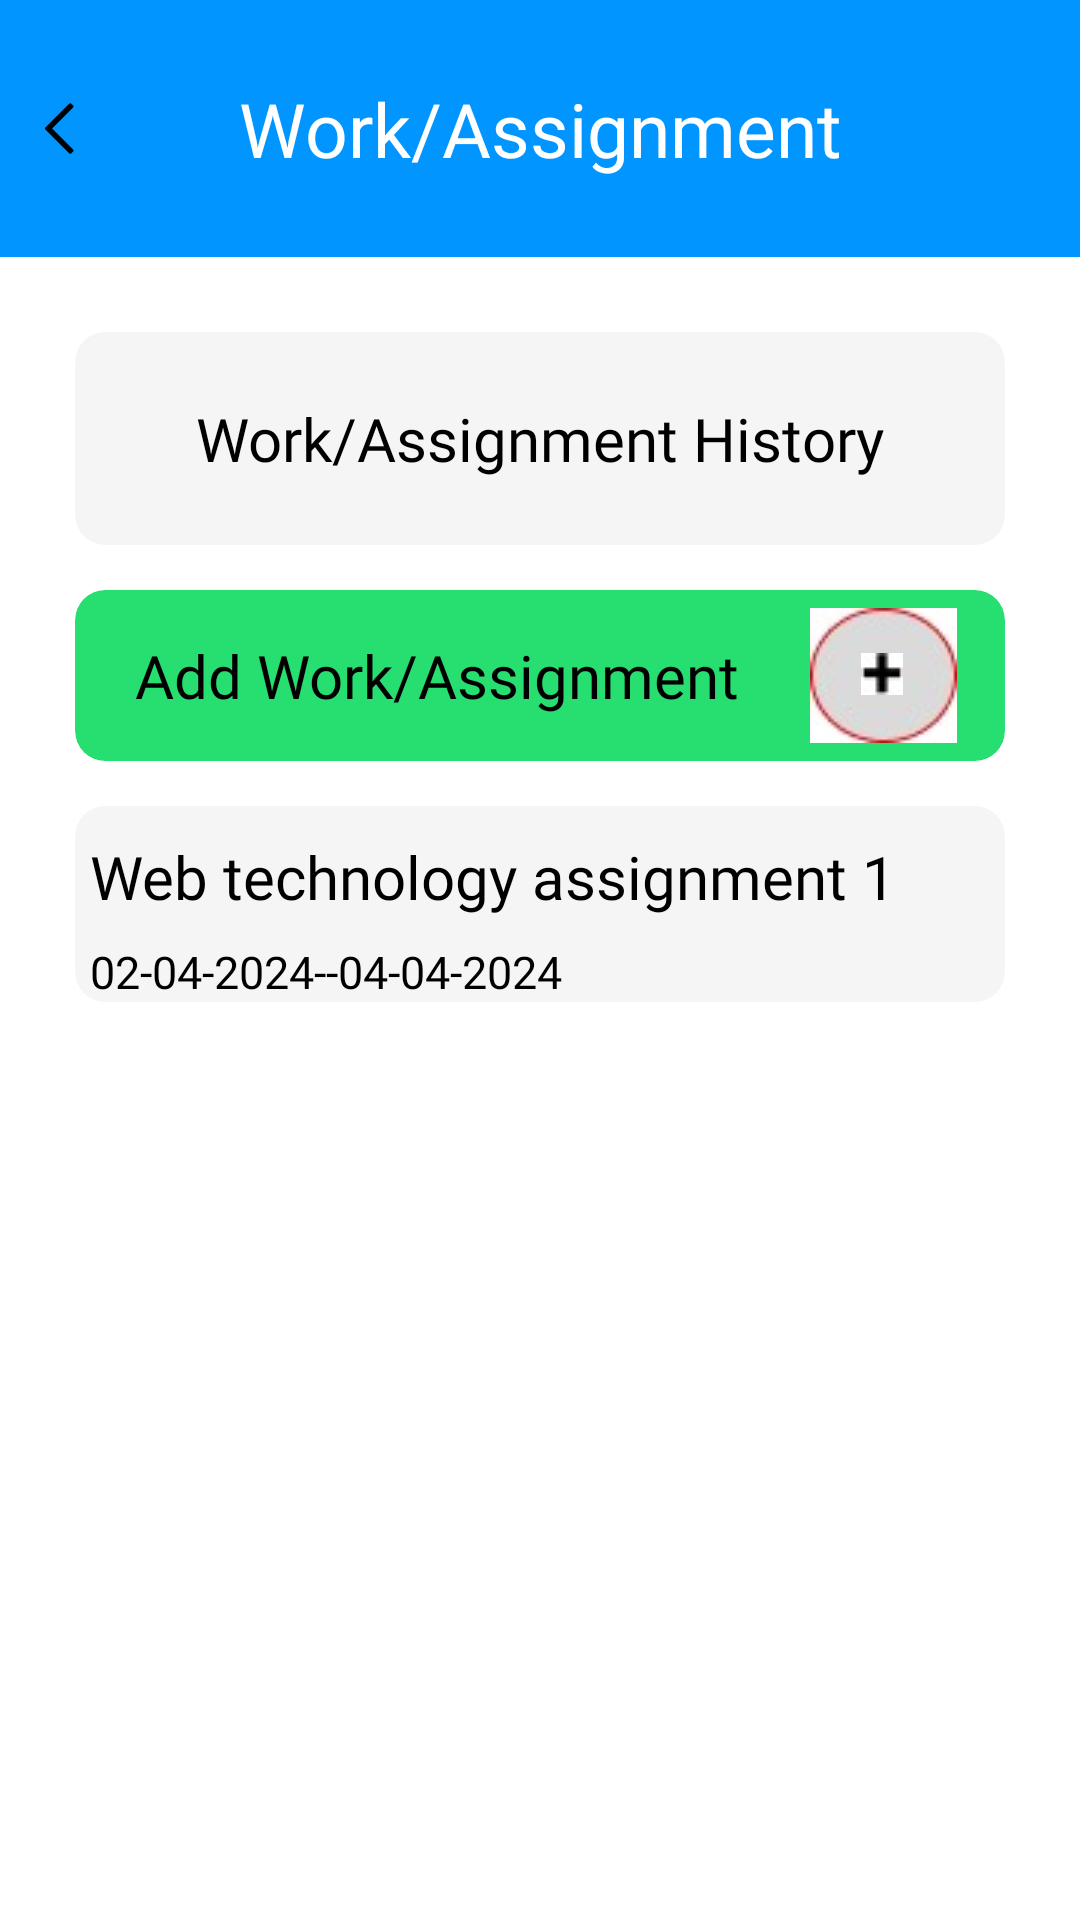

Icon bounding boxes for this 1080px x 1920px phone screenshot, format [x1, y1, x2, y2]:
addsubj: [861, 653, 903, 695]
back arrow: [45, 103, 74, 154]
